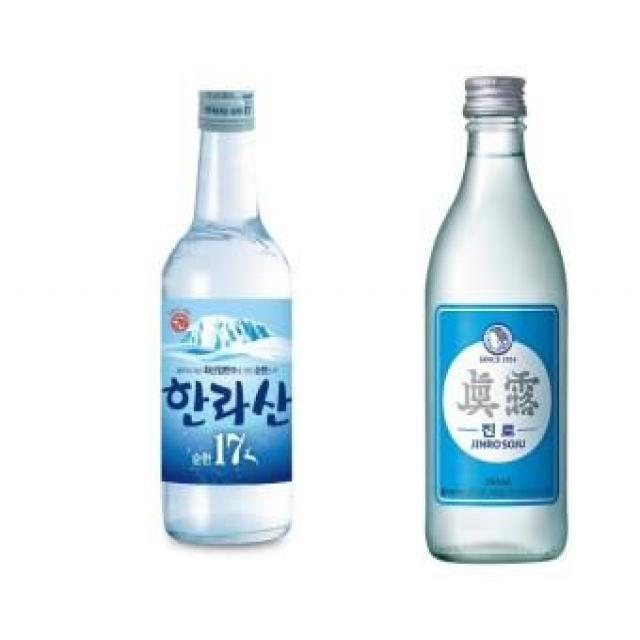soju-bottle: (424, 74, 568, 564), (154, 84, 294, 548)
